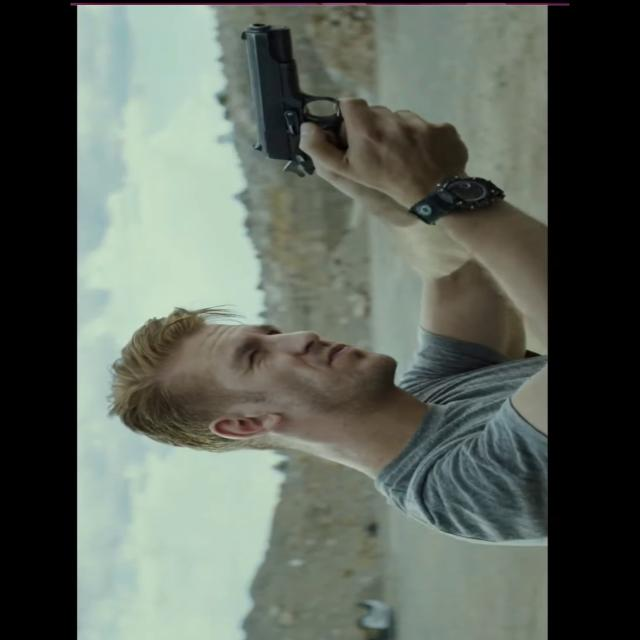weapons: (222, 18, 374, 184)
